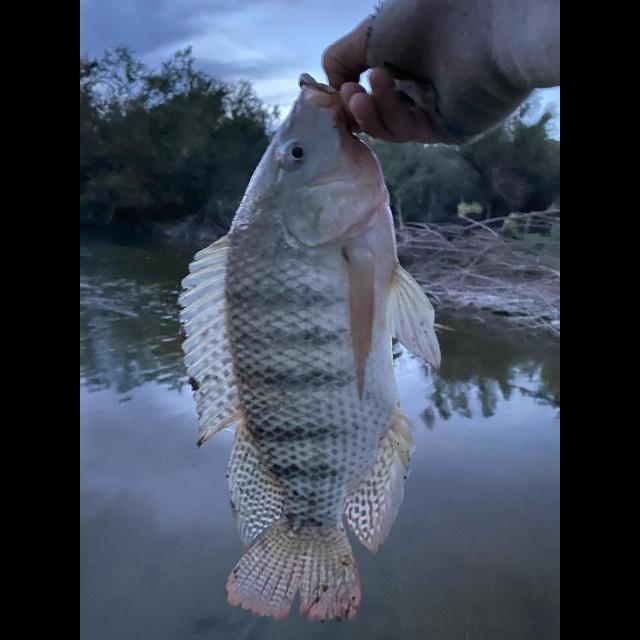Tilapia: (184, 72, 444, 620)
